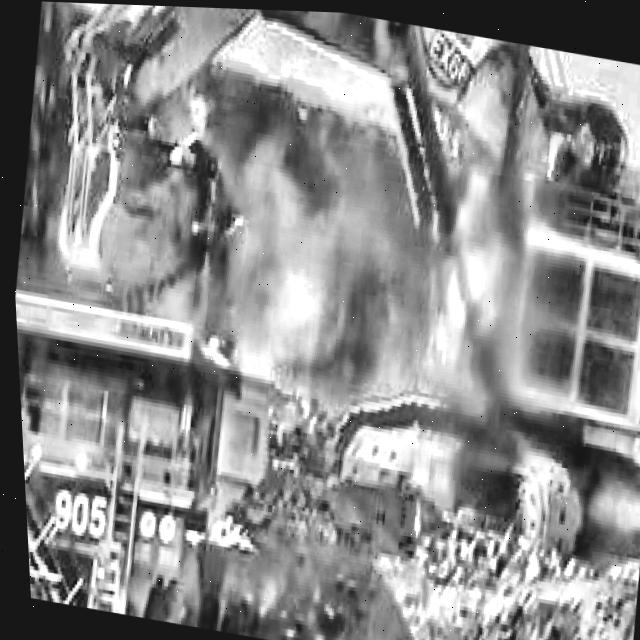dump_truck: (12, 285, 287, 636)
excavator: (0, 0, 640, 433)
